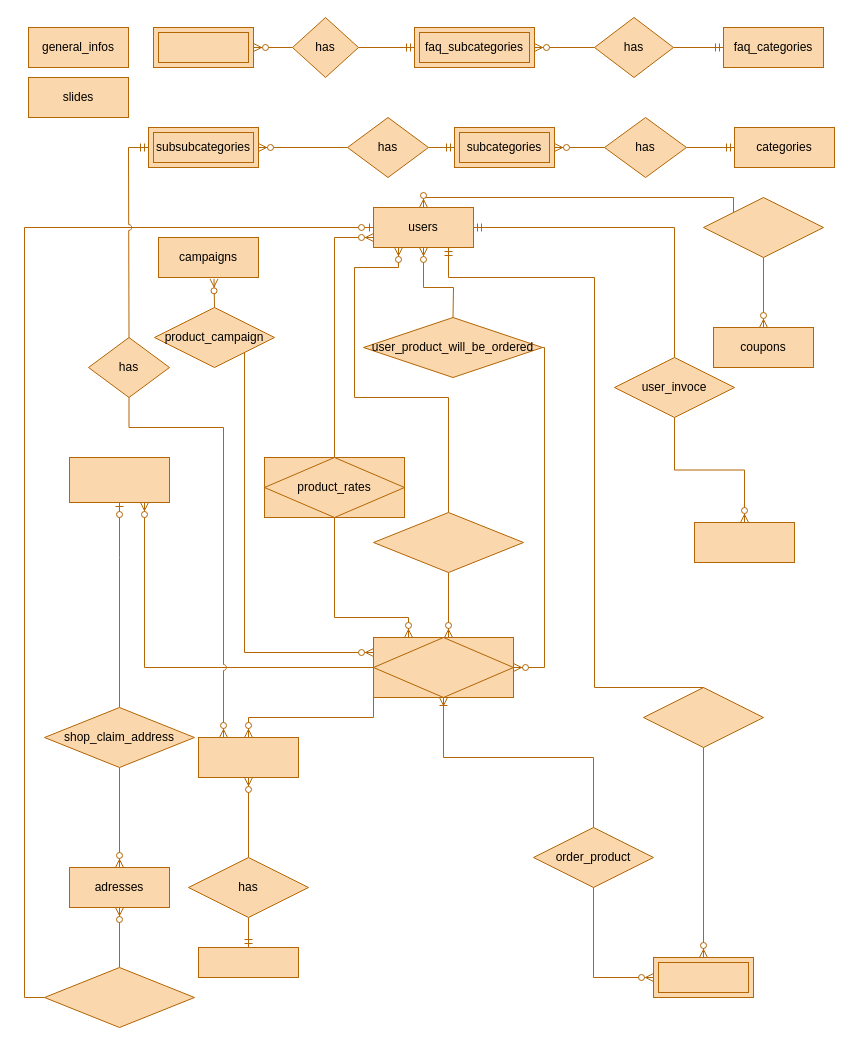
Some shapes in this 852 by 1045 pixel diagram are drawn without their labels. Here are the shapes that lost their labels. From the top down, the centre of each, then its label:
At [203,47]: "faqs".
At [763,227]: "user_coupon".
At [119,479]: "shops".
At [448,542]: "user_favourite_product".
At [744,542]: "invoices".
At [443,667]: "shop_products".
At [703,717]: "user_order".
At [248,757]: "products".
At [248,962]: "brands".
At [703,977]: "order".
At [119,997]: "user_claim_address".
